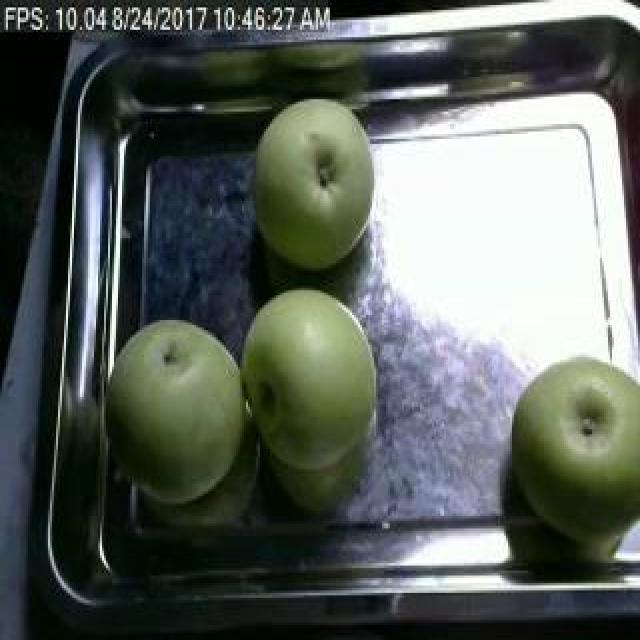Rotten Apple: (490, 343, 640, 562), (236, 280, 390, 479), (240, 93, 410, 264), (106, 295, 244, 496)
